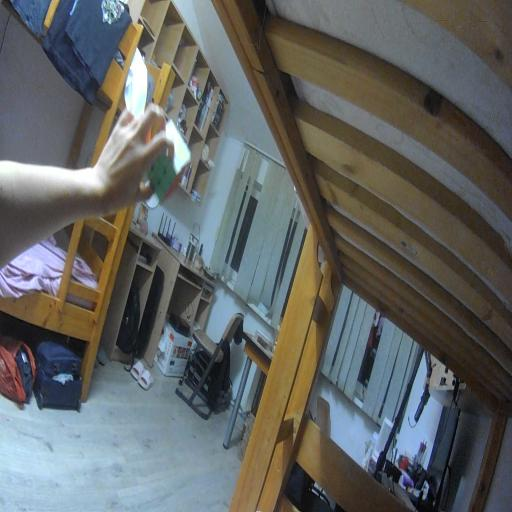Rubiks Cube: (141, 118, 190, 203)
